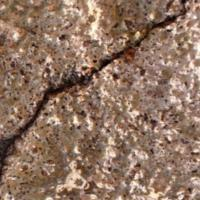crack: (7, 12, 199, 147)
